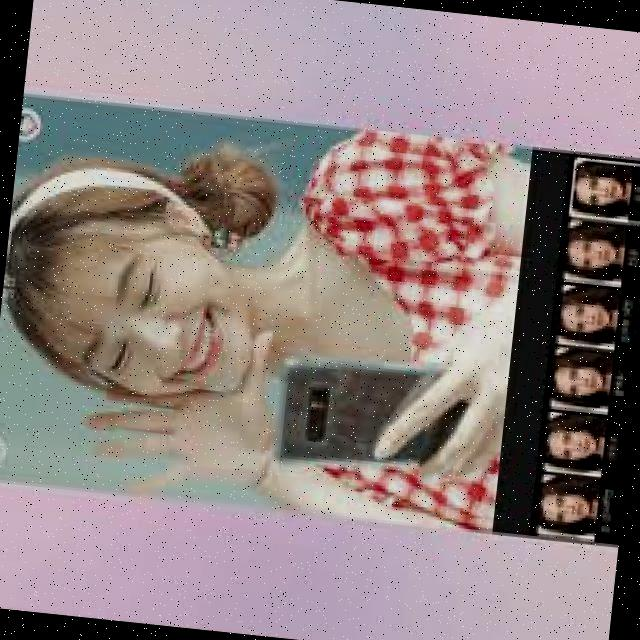lens: (306, 384, 328, 444)
phone: (281, 360, 473, 466)
